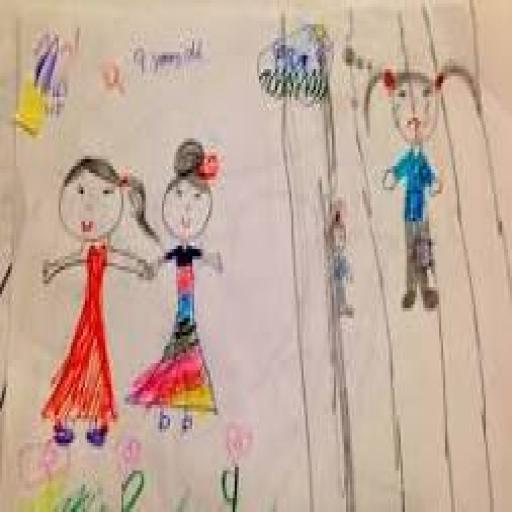person: (34, 149, 148, 453), (121, 138, 228, 438), (364, 56, 482, 320), (313, 188, 365, 328)
